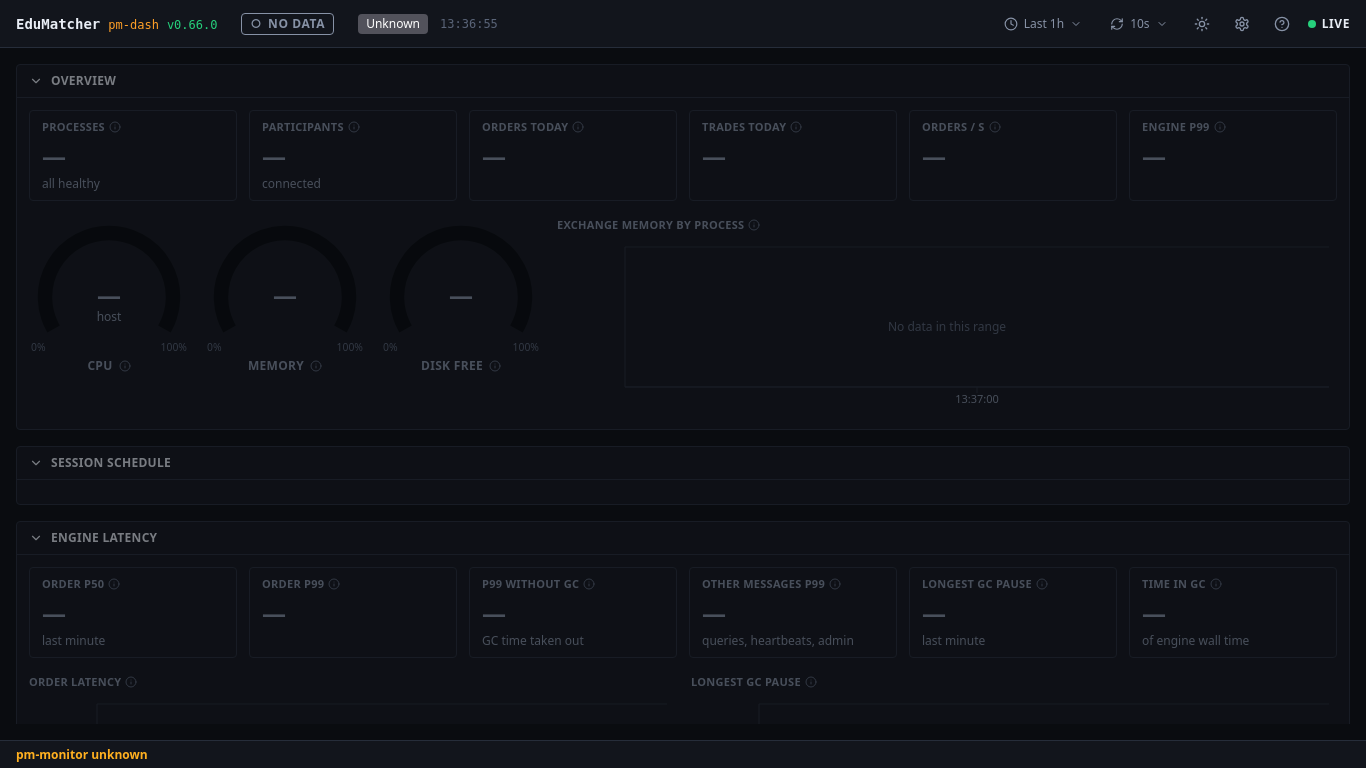
Test: time range and refresh (D1.3) › the refresh selector sets how often history is asked for
This screenshot has width=1366, height=768.
Click the button named "Refresh history: 10s": [1139, 24] box [1102,12,1176,36]
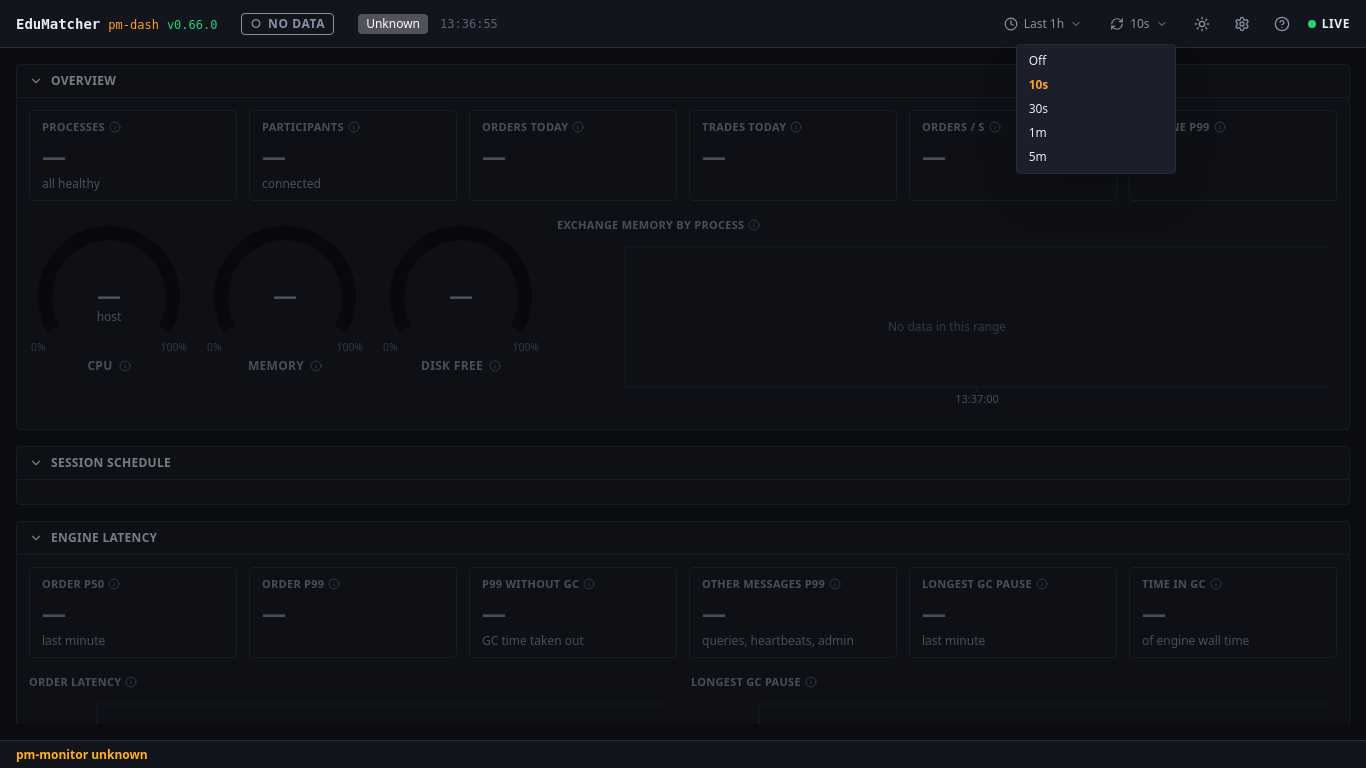
Click the option "Off": [1037, 60] box [1029,52,1046,68]
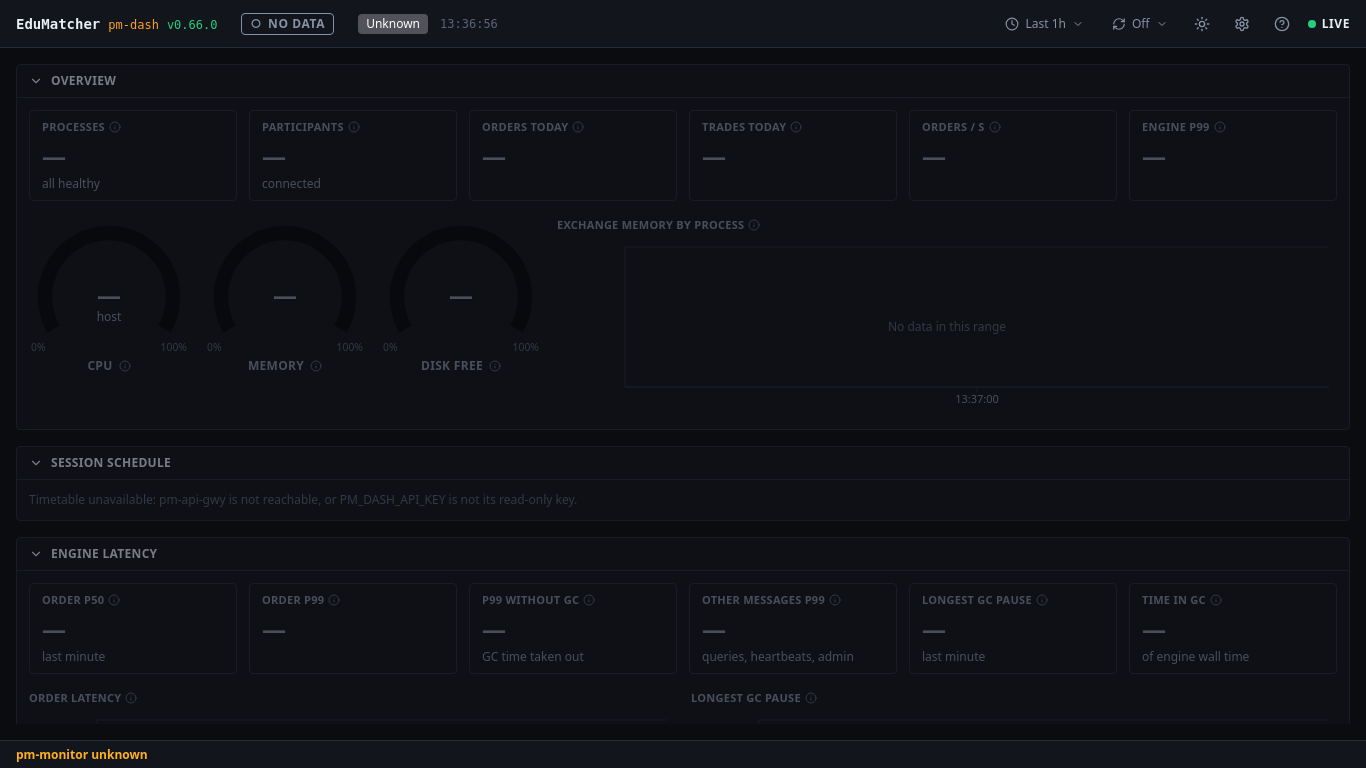
Now the button with aria-label "Refresh history: Off" is shown, box [1104,12,1176,36]
